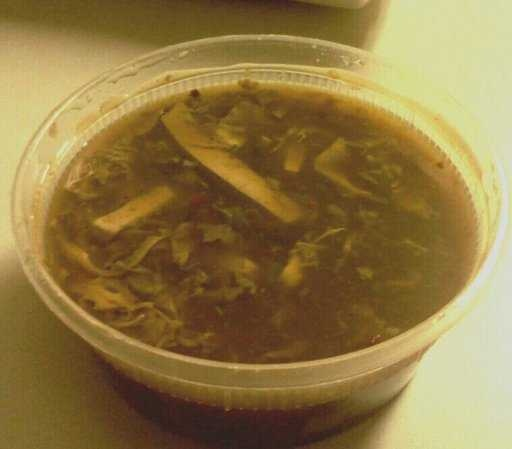soup: (23, 47, 490, 379)
